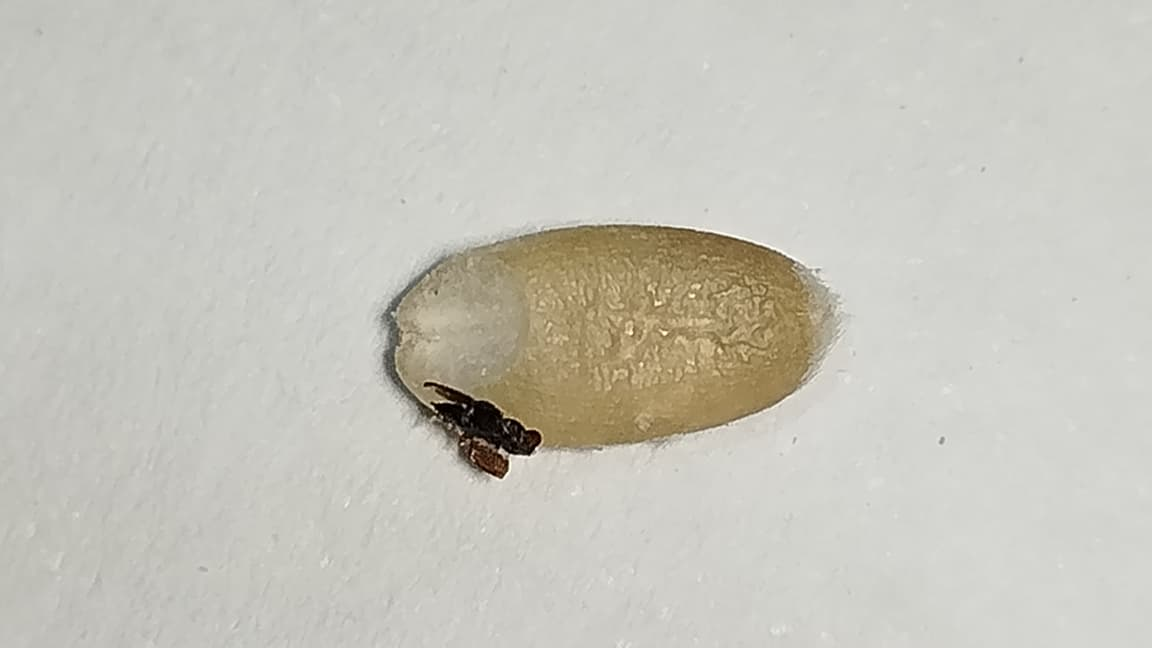damage: (389, 224, 845, 477)
insectdamage: (412, 358, 554, 509)
